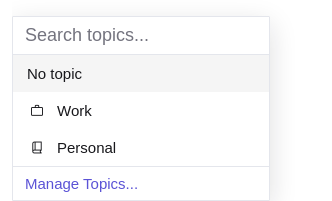
Scenario: TopicSelectorDropdown › filters topics by search query
This screenshot has width=332, height=201.
(page scrolled)
Step 1. Type "work" into the field with placeholder "Search topics..." → x=141, y=36, box [13, 17, 269, 55]
(page scrolled)
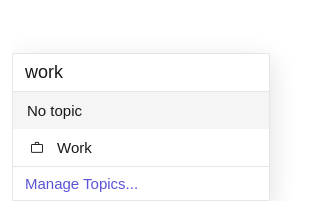
Expected: the button "Work" is shown, [13, 129, 269, 166]
Result: the button "Personal" is gone
